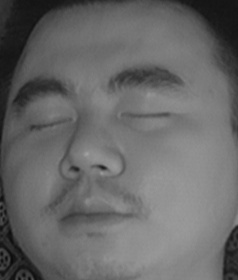blink: (120, 97, 173, 133), (26, 105, 75, 137)
mouth: (51, 185, 133, 240)
